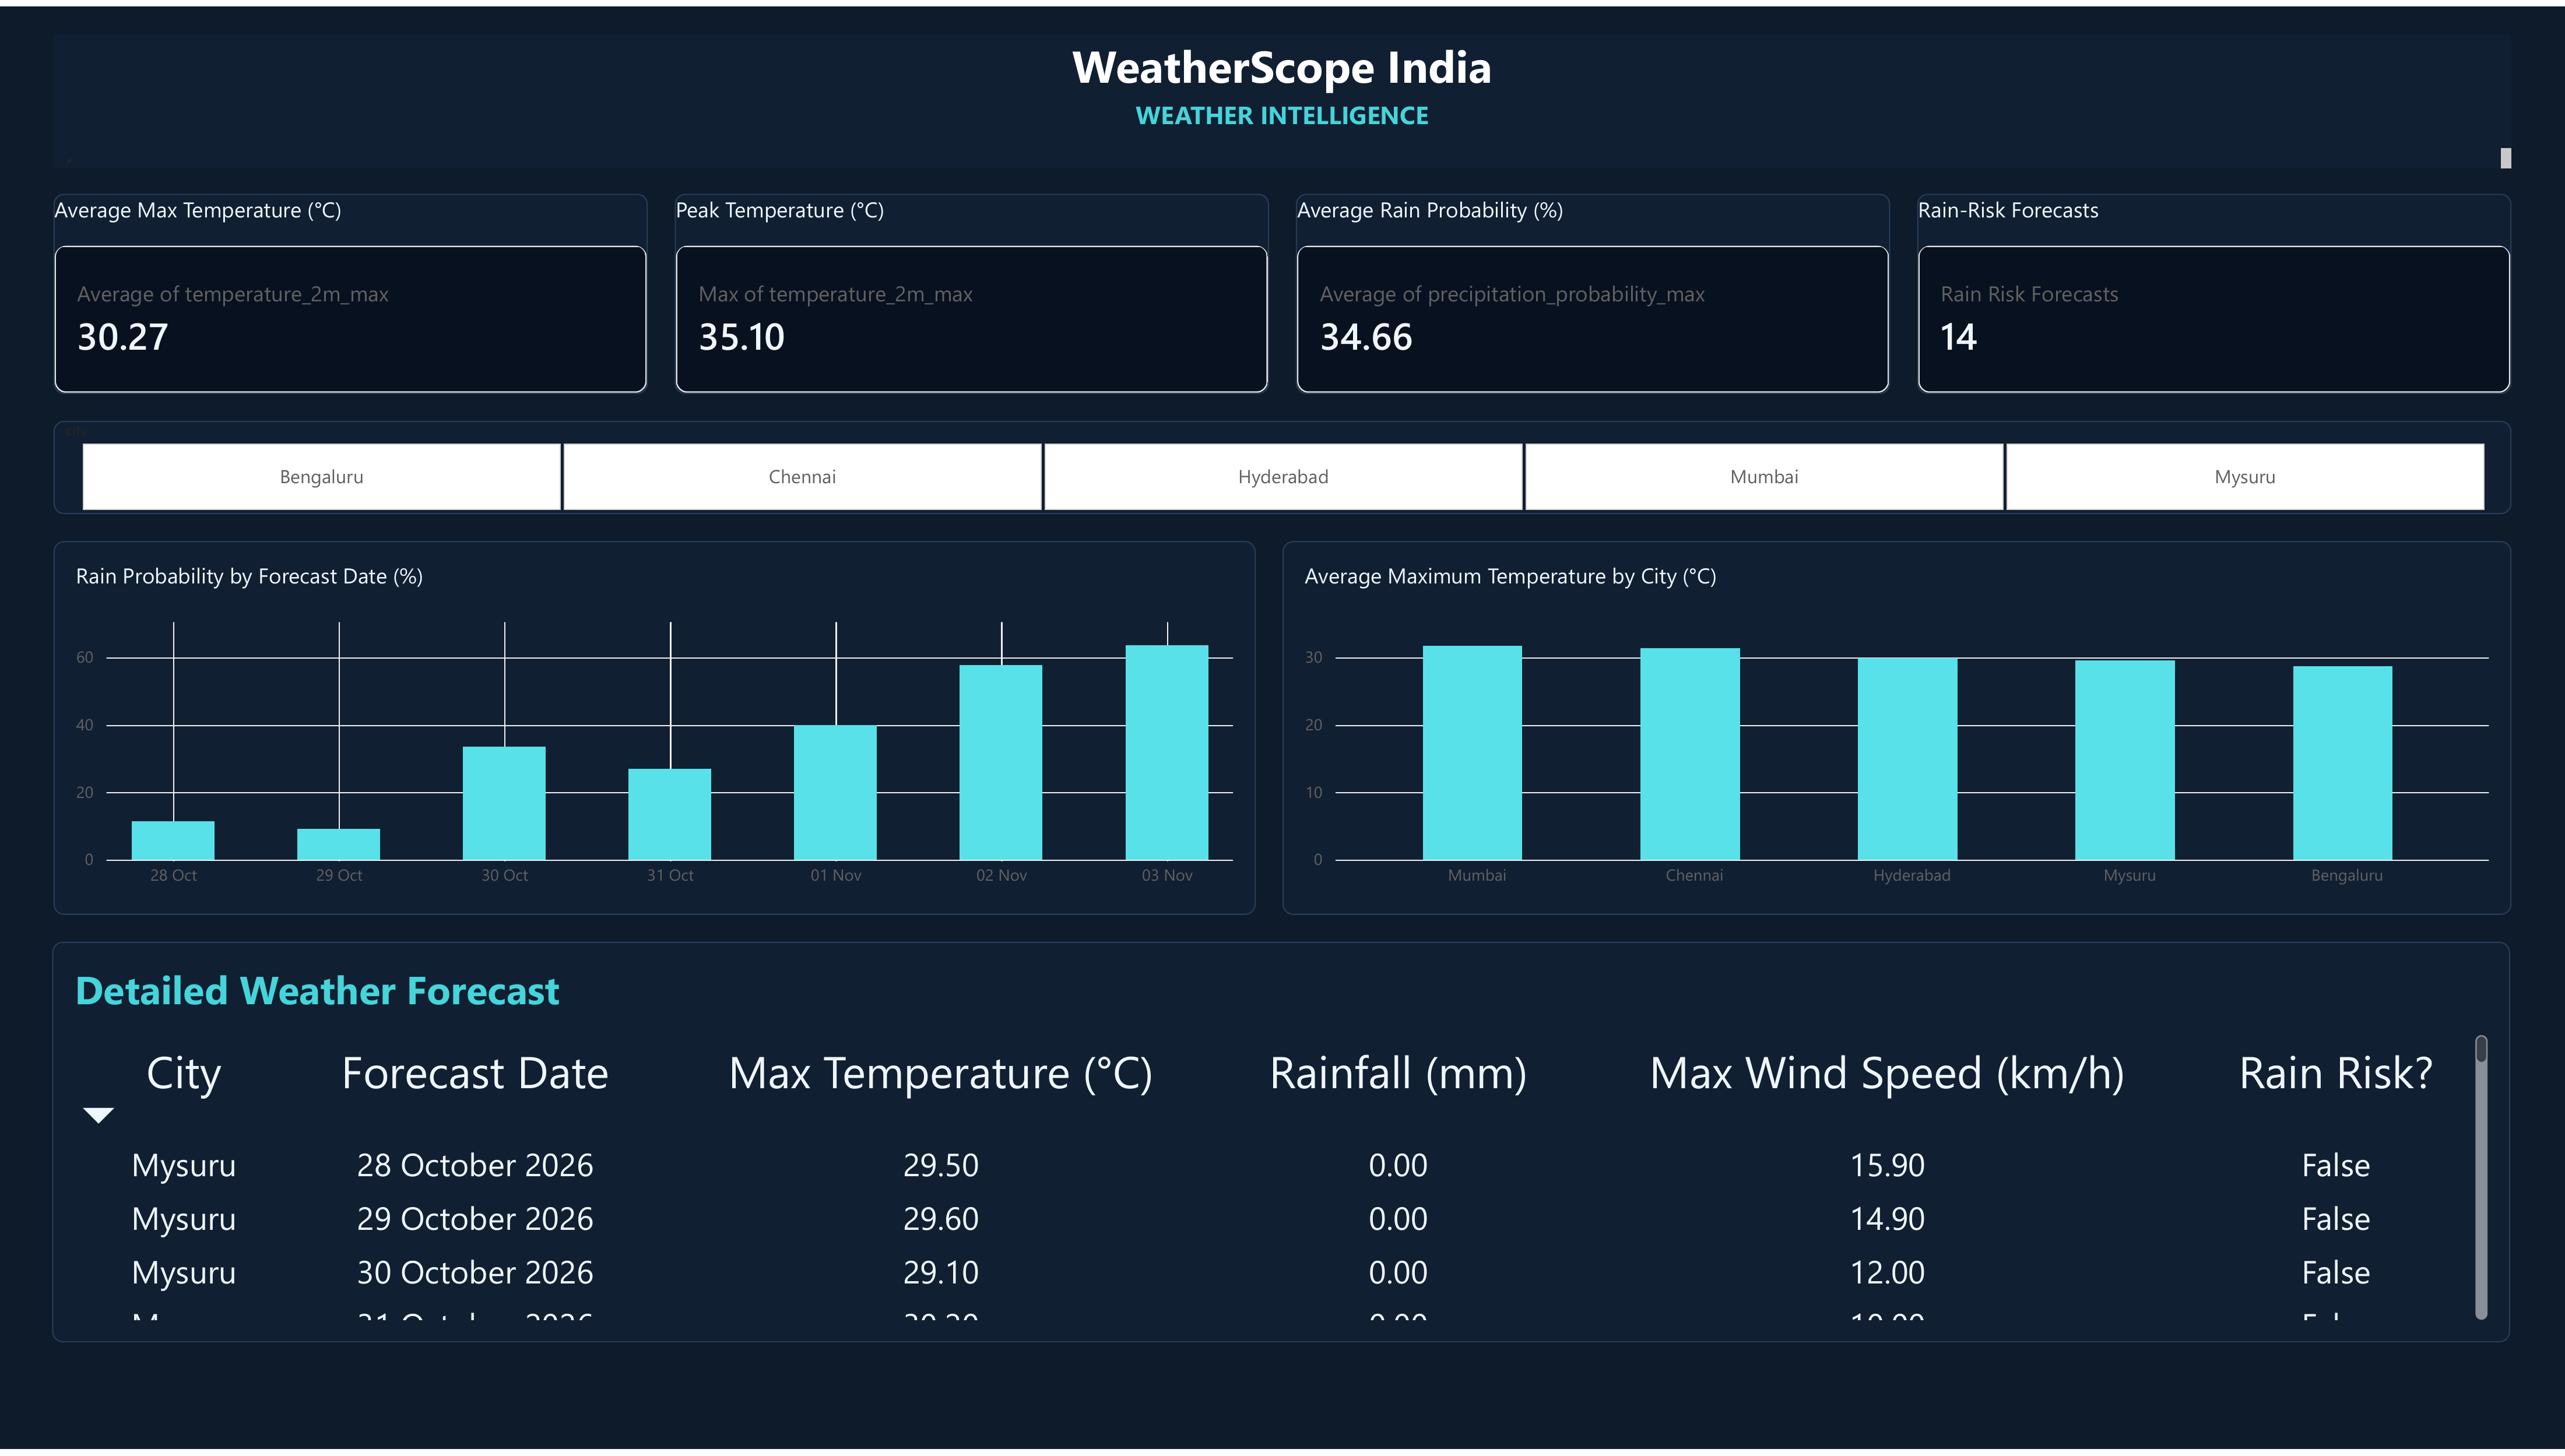

Layout of this report page (visuals, bound fields, positions):
{"tool":"powerbi","page":{"name":"WeatherScope India","canvas":[1920,1080],"ordinal":0},"visuals":[{"type":"cardVisual","title":"Average Max Temperature (°C)","fields":{"Data":["Avg(Table.temperature_2m_max)"]},"box":[40,140,445,150],"z":0},{"type":"cardVisual","title":"Peak Temperature (°C)","fields":{"Data":["Max(Table.temperature_2m_max)"]},"box":[505,140,445,150],"z":1000},{"type":"cardVisual","title":"Average Rain Probability (%)","fields":{"Data":["Avg(Table.precipitation_probability_max)"]},"box":[970,140,445,150],"z":2000},{"type":"clusteredColumnChart","title":"Average Maximum Temperature by City (°C)","fields":{"Category":["Table.city"],"Y":["Avg(Table.temperature_2m_max)"]},"box":[960,400,920,280],"z":3000},{"type":"clusteredColumnChart","title":"Rain Probability by Forecast Date (%)","fields":{"Category":["Table.forecast_date"],"Y":["Avg(Table.precipitation_probability_max)"]},"box":[40,400,900,280],"z":4000},{"type":"slicer","fields":{"Values":["Table.city"]},"box":[40,310,1840,70],"z":5000},{"type":"tableEx","title":"Detailed Weather Forecast","fields":{"Values":["Table.city","Table.forecast_date","Table.temperature_2m_max","Table.precipitation_sum","Table.wind_speed_10m_max","Table.is_rain_risk"]},"box":[38.9,700.3,1839.9,299.8],"z":6000},{"type":"cardVisual","title":"Rain-Risk Forecasts","fields":{"Data":["Table.Rain Risk Forecasts"]},"box":[1435,140,445,150],"z":7000},{"type":"textbox","title":"WeatherScope India","box":[40,20.6,1840,100],"z":8000}]}

Visuals, with their boxes in screenshot pixels (x1, y1, x2, y2), scaled from the page's 1920x1080 canvas onto the 2565x1456 screenshot:
"Average Max Temperature (°C)" cardVisual: box(54, 189, 648, 391)
"Peak Temperature (°C)" cardVisual: box(674, 189, 1269, 391)
"Average Rain Probability (%)" cardVisual: box(1296, 189, 1891, 391)
"Average Maximum Temperature by City (°C)" clusteredColumnChart: box(1282, 539, 2511, 917)
"Rain Probability by Forecast Date (%)" clusteredColumnChart: box(54, 539, 1256, 917)
slicer - Table.city: box(54, 418, 2511, 512)
"Detailed Weather Forecast" tableEx: box(52, 944, 2510, 1348)
"Rain-Risk Forecasts" cardVisual: box(1917, 189, 2511, 391)
"WeatherScope India" textbox: box(54, 28, 2511, 163)
